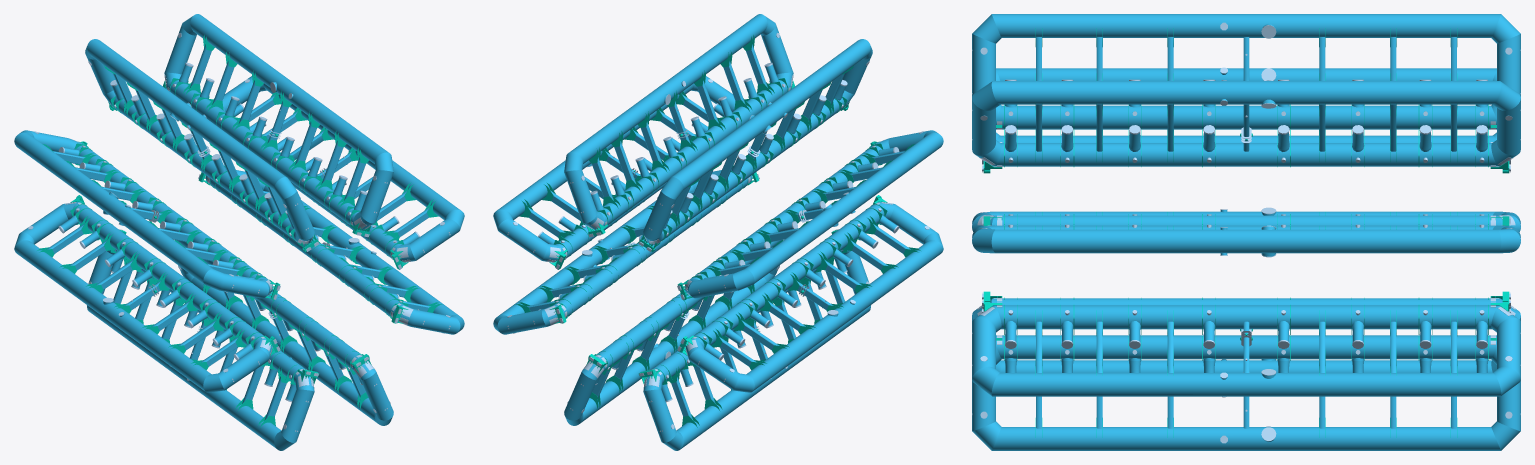
The model's file is op-bt-vacuum-vessel(asanadan).glb.
3 renders of one model, left to right at view 1: azimuth 30°, elevation 25°; view 2: azimuth 150°, elevation 25°; view 3: azimuth 270°, elevation 25°, orthographic. The views are drawn at different scales.
Visible parts, largest first — view 1: bt-vacuum-vessel; view 2: bt-vacuum-vessel; view 3: bt-vacuum-vessel.
Boxes of the visible parts, x1=… form: bt-vacuum-vessel: x1=14, y1=14, x2=464, y2=450; bt-vacuum-vessel: x1=493, y1=14, x2=943, y2=450; bt-vacuum-vessel: x1=972, y1=14, x2=1520, y2=450.
Size of the model in its own units: 18.69 by 18.69 by 25.27.
